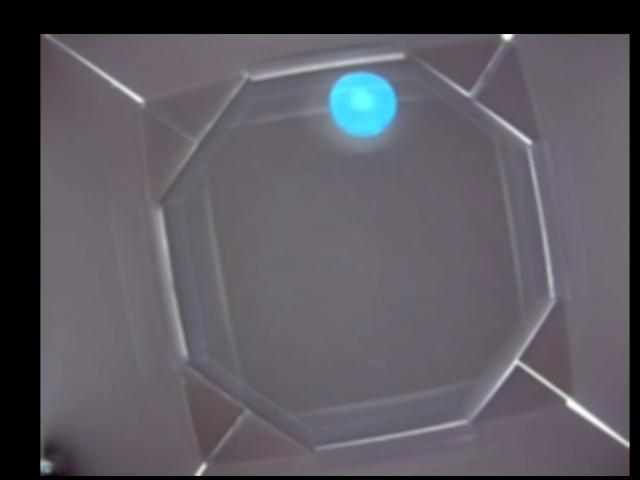Carrot: (329, 72, 398, 136)
